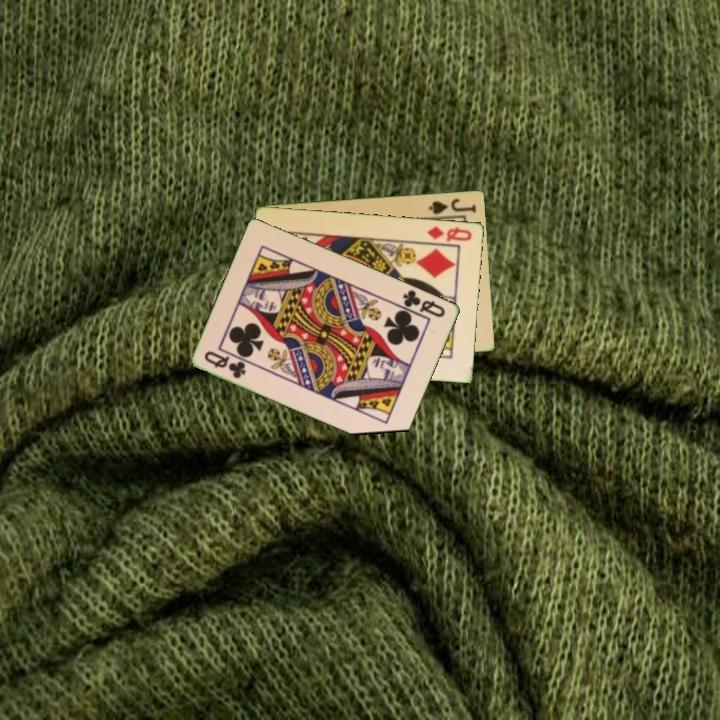Js: (426, 195, 479, 217)
Qc: (400, 286, 449, 320), (201, 347, 249, 381)
Qd: (424, 222, 475, 244)
